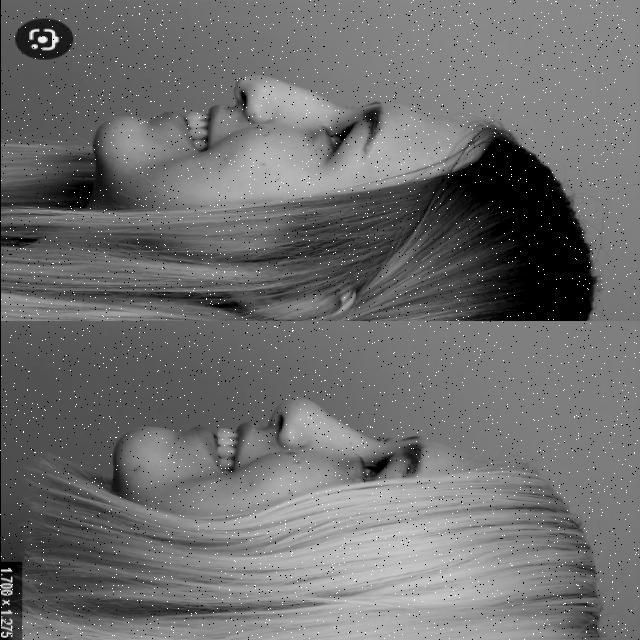face_no_mask: (85, 72, 516, 323), (107, 396, 537, 546)
